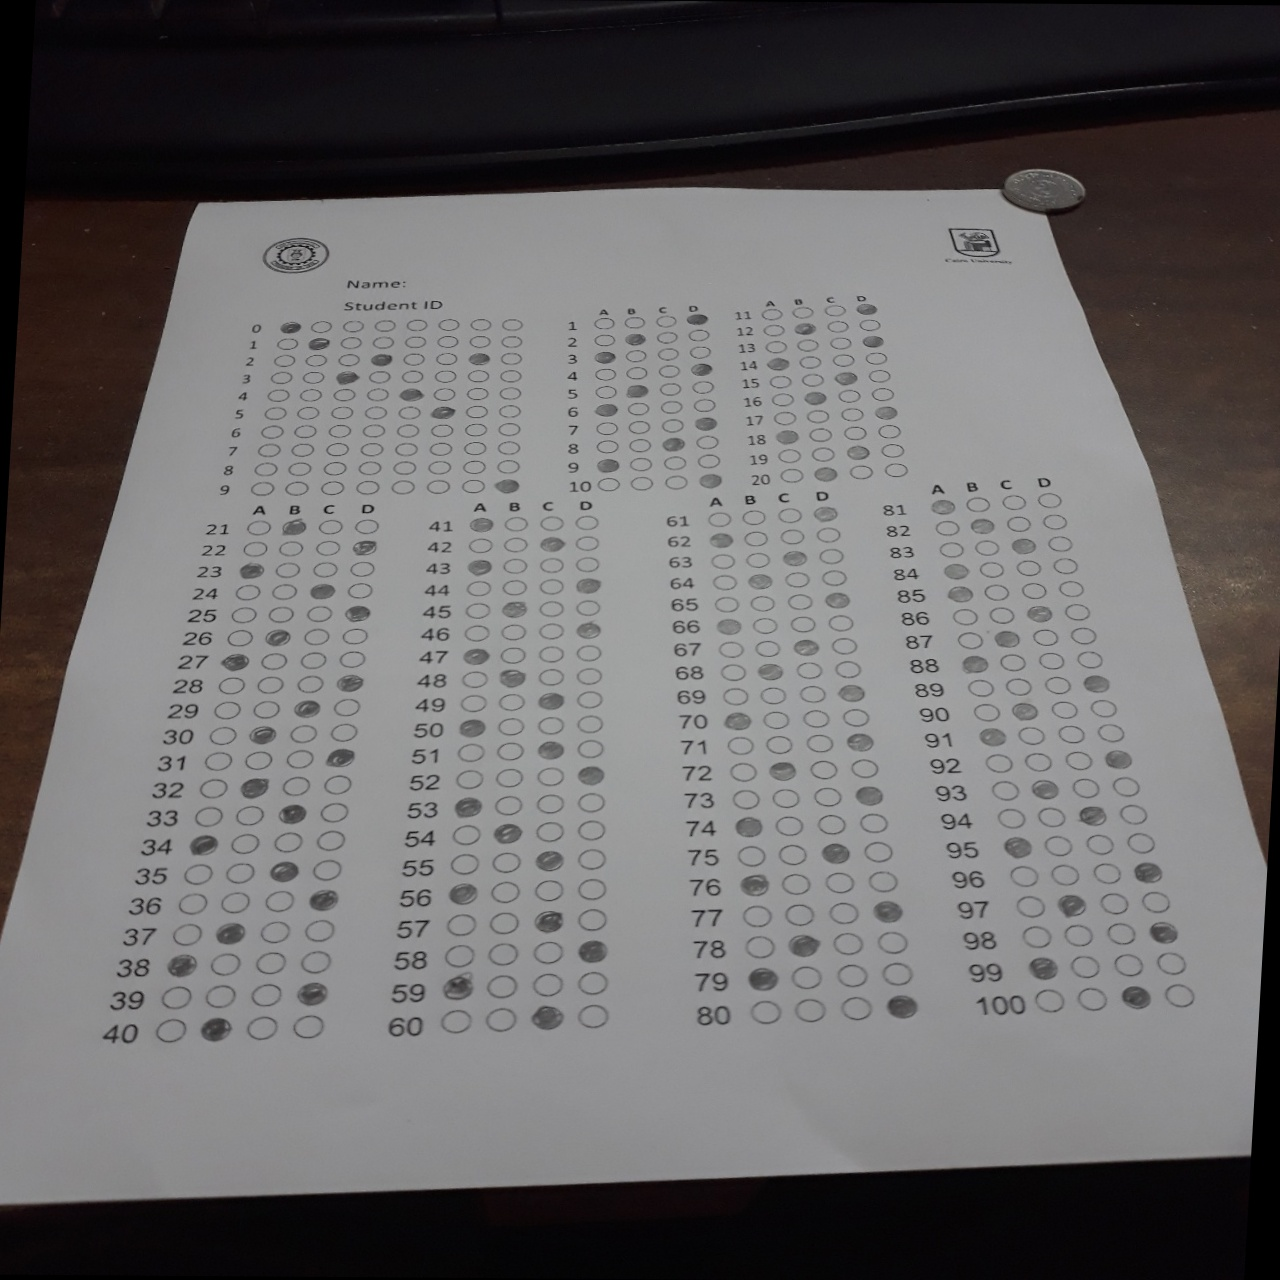not-c: (748, 999, 783, 1024), (832, 930, 866, 955), (484, 1006, 518, 1032), (438, 1007, 474, 1032), (445, 912, 481, 937), (447, 851, 482, 876), (576, 878, 611, 903), (881, 961, 915, 986), (874, 931, 908, 955), (794, 998, 828, 1022), (835, 965, 869, 989), (790, 965, 824, 989), (734, 842, 768, 866), (486, 975, 520, 1000), (529, 972, 563, 996), (576, 1005, 610, 1029), (576, 845, 610, 870), (443, 944, 478, 967), (489, 879, 524, 903), (1155, 951, 1187, 975), (292, 1015, 326, 1039), (154, 1017, 188, 1041), (486, 912, 520, 935), (486, 942, 520, 966), (530, 940, 564, 964), (574, 971, 608, 994), (576, 907, 610, 931), (866, 870, 898, 894), (203, 985, 234, 1009), (1033, 989, 1065, 1013), (1076, 987, 1109, 1010), (1162, 983, 1194, 1007), (825, 872, 858, 896), (743, 937, 776, 960), (450, 822, 483, 845), (576, 790, 608, 813), (490, 851, 524, 873), (1139, 891, 1171, 914), (1020, 926, 1051, 949), (1112, 953, 1144, 976), (742, 904, 774, 927), (815, 812, 846, 836), (576, 817, 607, 840), (1089, 862, 1122, 884), (840, 998, 873, 1020), (782, 903, 815, 925), (781, 872, 813, 894), (862, 839, 894, 862), (776, 843, 809, 865), (309, 859, 342, 881), (250, 983, 282, 1006), (176, 892, 209, 914), (264, 890, 297, 912), (209, 953, 241, 975), (245, 1016, 278, 1039), (158, 986, 191, 1008), (858, 812, 888, 836), (731, 788, 762, 811), (1015, 896, 1047, 918), (1063, 924, 1095, 946), (1068, 956, 1099, 979), (183, 862, 215, 884), (302, 918, 334, 940), (259, 920, 291, 942), (300, 949, 332, 972), (576, 736, 607, 758), (1007, 865, 1040, 886), (828, 903, 860, 924), (233, 805, 266, 826), (229, 832, 261, 853), (218, 891, 251, 912), (849, 757, 879, 779), (813, 784, 844, 806), (726, 736, 756, 758), (765, 734, 796, 756), (804, 731, 835, 754), (315, 829, 346, 851), (171, 922, 202, 945), (492, 795, 523, 817), (577, 713, 607, 735), (1099, 893, 1131, 914), (1104, 922, 1136, 944), (273, 831, 305, 852), (320, 802, 352, 823), (253, 952, 285, 973), (535, 821, 566, 842), (989, 779, 1022, 799), (1037, 806, 1070, 826), (1084, 835, 1117, 855), (808, 758, 838, 779), (729, 761, 760, 782), (533, 794, 564, 815), (533, 879, 564, 900), (535, 764, 565, 785), (496, 767, 526, 788), (456, 742, 486, 763), (535, 714, 565, 735), (497, 715, 527, 736), (459, 692, 490, 713), (576, 666, 606, 687), (1069, 777, 1101, 797), (996, 808, 1028, 828), (1118, 803, 1150, 823), (1041, 836, 1073, 856), (224, 862, 256, 881), (774, 813, 803, 835), (771, 787, 801, 808), (199, 777, 229, 798), (454, 768, 483, 789), (497, 692, 526, 713), (576, 689, 605, 710), (1126, 833, 1159, 852), (1048, 865, 1081, 884), (495, 741, 525, 761), (831, 633, 858, 655), (322, 774, 350, 795), (986, 753, 1015, 772), (1110, 776, 1141, 795), (204, 751, 234, 770), (842, 708, 869, 729), (761, 708, 788, 729), (760, 685, 787, 706), (799, 682, 826, 703), (835, 658, 862, 679), (719, 638, 745, 659), (282, 774, 309, 795), (195, 806, 222, 828), (295, 673, 324, 693), (331, 697, 359, 717), (462, 669, 490, 689), (465, 577, 493, 597), (1075, 651, 1104, 669), (1097, 722, 1126, 741), (1056, 724, 1085, 743), (1016, 726, 1046, 744), (256, 674, 285, 693), (325, 722, 354, 741), (252, 700, 281, 719), (207, 727, 237, 745), (802, 708, 828, 729), (724, 685, 750, 706), (796, 660, 822, 681), (755, 638, 782, 658), (576, 644, 602, 663), (498, 621, 525, 641), (537, 598, 564, 618), (464, 599, 491, 619), (501, 576, 527, 595), (1089, 697, 1117, 716), (964, 493, 992, 512), (956, 631, 985, 649), (966, 678, 994, 696), (973, 703, 1001, 722), (1051, 700, 1080, 719), (1064, 751, 1092, 770), (880, 459, 908, 478), (288, 726, 316, 744), (213, 700, 241, 719), (243, 749, 271, 768), (285, 749, 313, 768), (498, 646, 526, 665), (539, 621, 567, 640), (574, 599, 602, 618), (1024, 753, 1054, 770), (720, 663, 745, 683), (982, 583, 1009, 601), (1005, 678, 1032, 696), (828, 613, 855, 632), (817, 545, 844, 564), (808, 425, 835, 444), (236, 583, 263, 601), (271, 581, 298, 600), (539, 667, 566, 686), (538, 644, 565, 662), (463, 621, 490, 640), (1063, 602, 1091, 620), (1069, 626, 1097, 644), (1001, 491, 1029, 509), (934, 519, 962, 537), (973, 539, 1001, 557), (1016, 559, 1044, 577), (952, 606, 980, 624), (999, 653, 1027, 670), (1037, 651, 1065, 668), (1044, 675, 1073, 693), (783, 570, 811, 587), (778, 527, 806, 545), (743, 530, 771, 547), (779, 467, 805, 485), (354, 516, 380, 535), (307, 602, 333, 621), (267, 604, 293, 622), (299, 651, 325, 669), (260, 651, 286, 669), (542, 556, 567, 574), (1005, 515, 1032, 532), (937, 540, 964, 558), (978, 560, 1005, 578), (1020, 583, 1047, 600), (1032, 628, 1058, 646), (789, 614, 816, 632), (787, 592, 813, 610), (821, 568, 847, 586), (816, 524, 843, 542), (741, 509, 768, 526), (311, 561, 338, 579), (345, 583, 372, 600), (302, 627, 329, 645), (501, 556, 527, 573), (748, 615, 776, 632), (749, 595, 777, 612), (710, 574, 738, 591), (539, 577, 564, 595), (880, 442, 906, 459), (811, 445, 837, 463), (776, 445, 802, 463), (318, 517, 343, 535), (277, 538, 302, 556), (315, 539, 341, 557), (273, 560, 299, 578), (230, 606, 256, 624), (226, 628, 252, 646), (342, 626, 368, 644), (340, 651, 366, 668), (219, 675, 245, 693), (576, 554, 601, 572), (502, 535, 527, 552), (469, 537, 495, 554), (539, 512, 565, 530), (574, 515, 600, 532), (988, 607, 1015, 624), (713, 595, 740, 612), (708, 554, 735, 571), (745, 552, 772, 568), (704, 511, 731, 527), (777, 506, 804, 523), (874, 423, 901, 440), (842, 423, 869, 440), (590, 314, 617, 331), (394, 440, 418, 457), (1046, 535, 1074, 550), (1051, 558, 1080, 573), (849, 464, 874, 481), (839, 406, 865, 422), (247, 518, 273, 535), (241, 539, 267, 556), (348, 560, 374, 577), (502, 515, 527, 531), (574, 533, 600, 550), (501, 333, 524, 350), (253, 459, 277, 477), (256, 441, 279, 458), (1058, 580, 1085, 595), (791, 304, 816, 320), (662, 455, 687, 471), (595, 477, 620, 493), (496, 421, 520, 437), (374, 316, 399, 333), (435, 350, 459, 367), (433, 368, 457, 384), (433, 386, 457, 402), (425, 461, 450, 477), (251, 481, 275, 497), (304, 352, 328, 368), (400, 368, 424, 384), (367, 369, 392, 386), (297, 384, 321, 401), (365, 386, 389, 402), (326, 442, 350, 458), (359, 442, 383, 458), (1036, 492, 1062, 508), (758, 305, 784, 320), (799, 372, 825, 387), (627, 455, 651, 471), (629, 476, 653, 492), (463, 441, 486, 457), (467, 367, 490, 383), (342, 316, 366, 333), (436, 332, 459, 348), (429, 441, 452, 457), (390, 478, 414, 495), (259, 423, 282, 440), (267, 387, 291, 403), (372, 334, 395, 350), (403, 333, 427, 349), (331, 386, 354, 402), (395, 422, 418, 438), (362, 423, 386, 440), (329, 423, 353, 440), (290, 459, 313, 476), (392, 459, 415, 476), (1041, 515, 1068, 529), (806, 408, 831, 423), (796, 335, 821, 350), (796, 353, 821, 368), (653, 313, 678, 328), (655, 328, 680, 343), (654, 345, 679, 360), (622, 348, 647, 363), (595, 383, 620, 399), (658, 380, 682, 395), (625, 401, 649, 416), (662, 475, 687, 490), (495, 440, 519, 455), (496, 458, 520, 474), (459, 478, 484, 493), (462, 459, 486, 475), (468, 334, 492, 349), (467, 316, 491, 332), (428, 424, 452, 440), (284, 481, 308, 496), (268, 369, 293, 384), (270, 350, 294, 366), (340, 335, 365, 350), (292, 424, 316, 440), (358, 459, 382, 475), (772, 408, 798, 422), (836, 388, 862, 402), (857, 316, 883, 331), (831, 354, 857, 368), (761, 324, 787, 338), (763, 338, 789, 352), (685, 327, 710, 341), (768, 373, 794, 387), (686, 343, 712, 358), (658, 365, 683, 379), (658, 399, 683, 413), (659, 418, 685, 433), (694, 436, 720, 450), (866, 349, 890, 365), (501, 316, 524, 332), (499, 350, 523, 366), (497, 367, 520, 382), (497, 383, 520, 399), (497, 403, 520, 418), (425, 479, 449, 495), (463, 421, 486, 436), (464, 404, 488, 420), (436, 315, 459, 331), (404, 316, 428, 332), (355, 479, 379, 495), (275, 335, 299, 350), (308, 318, 332, 333), (336, 350, 360, 366), (301, 369, 325, 384), (329, 403, 353, 418), (365, 403, 388, 418), (397, 406, 421, 421), (290, 442, 313, 457), (321, 459, 345, 475), (771, 392, 796, 406), (871, 387, 896, 401), (867, 367, 892, 381), (824, 304, 849, 318), (823, 319, 847, 333), (620, 315, 645, 329), (592, 367, 617, 381), (622, 365, 647, 379), (689, 380, 714, 394), (692, 397, 716, 411), (597, 383, 621, 397), (626, 418, 651, 433), (695, 454, 720, 468), (263, 406, 287, 420), (595, 437, 618, 452), (828, 338, 853, 350), (593, 332, 617, 346), (595, 421, 619, 435), (627, 438, 651, 452), (464, 384, 488, 399), (320, 481, 343, 495), (403, 350, 427, 365), (297, 406, 320, 420)
taken-c: (745, 965, 777, 990), (199, 1017, 233, 1041), (164, 954, 198, 978), (211, 922, 245, 946), (274, 801, 308, 824), (308, 887, 341, 911), (297, 982, 331, 1005), (532, 1007, 563, 1032), (1026, 956, 1058, 979), (1121, 986, 1153, 1008), (869, 900, 901, 922), (186, 835, 219, 857), (236, 776, 268, 798), (740, 873, 770, 897), (731, 813, 762, 837), (1001, 835, 1033, 857), (1148, 920, 1179, 942), (885, 995, 917, 1017), (496, 668, 527, 690), (576, 765, 607, 788), (1132, 862, 1165, 883), (445, 881, 478, 903), (530, 911, 563, 932), (267, 860, 300, 881), (788, 934, 818, 956), (768, 760, 798, 782), (442, 975, 472, 998), (452, 796, 482, 818), (819, 844, 850, 865), (843, 731, 873, 753), (577, 940, 607, 961), (247, 724, 278, 745), (292, 697, 322, 719), (1055, 896, 1087, 915), (824, 588, 852, 611), (535, 849, 563, 871), (853, 787, 883, 808), (1028, 779, 1058, 799), (723, 712, 754, 731), (490, 823, 520, 843), (324, 747, 354, 767), (836, 682, 864, 703), (755, 661, 783, 682), (791, 636, 819, 658), (335, 673, 365, 693), (1077, 806, 1108, 825), (263, 627, 293, 646), (237, 561, 267, 580), (714, 617, 743, 635), (219, 652, 248, 670), (308, 583, 338, 601), (342, 604, 372, 622), (1081, 675, 1109, 694), (747, 572, 775, 591), (457, 719, 485, 737), (536, 740, 564, 758), (573, 577, 602, 594), (978, 728, 1005, 747), (960, 655, 988, 673), (1010, 703, 1039, 721), (1104, 749, 1132, 767), (781, 550, 809, 567), (707, 531, 735, 549), (539, 535, 567, 552), (465, 516, 493, 533), (536, 692, 564, 709), (947, 584, 973, 602), (467, 558, 493, 576), (1012, 536, 1036, 554), (811, 505, 839, 522), (278, 519, 306, 536), (968, 517, 994, 535), (930, 498, 955, 516), (1026, 605, 1051, 622), (994, 629, 1020, 647), (944, 561, 971, 578), (501, 600, 527, 617), (462, 648, 489, 665), (350, 538, 377, 554), (574, 622, 602, 638), (428, 404, 456, 420), (396, 387, 424, 402), (368, 350, 396, 366), (801, 390, 828, 406), (594, 457, 620, 472), (812, 467, 838, 482), (791, 321, 818, 335), (467, 350, 491, 366), (592, 348, 617, 363), (622, 383, 647, 399), (334, 370, 360, 384), (306, 336, 332, 350), (278, 321, 304, 335), (493, 479, 519, 493), (697, 474, 723, 488), (688, 362, 714, 376), (765, 358, 791, 372), (774, 430, 799, 444), (833, 372, 859, 386), (843, 445, 869, 459), (853, 301, 879, 315), (692, 418, 719, 431), (593, 402, 618, 416), (661, 437, 686, 451), (872, 404, 897, 418), (860, 334, 885, 348), (622, 332, 648, 345), (685, 312, 710, 325)
